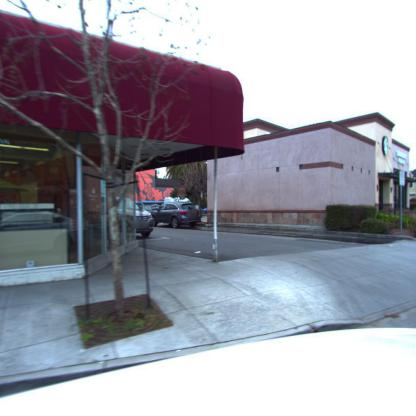car: (116, 198, 156, 238), (150, 199, 201, 228)
